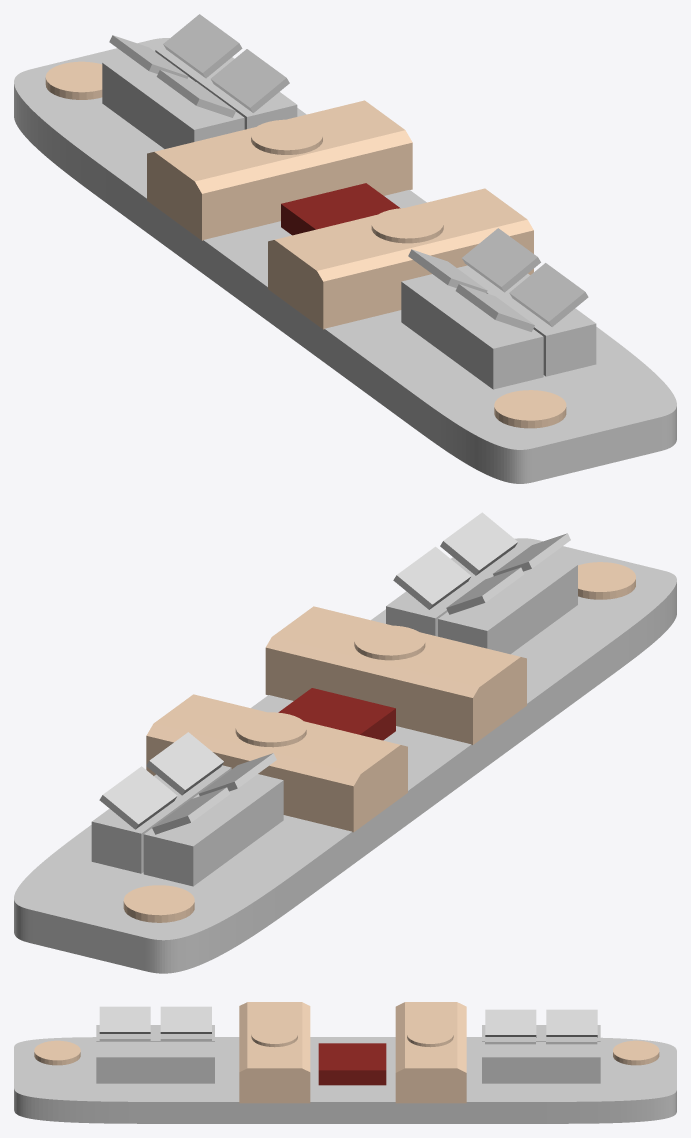
The model's file is SMParte de adentro1parte8.fbx.
3 views of the same model, one above another, from view 1: azimuth 30°, elevation 25°; view 2: azimuth 150°, elevation 25°; view 3: azimuth 270°, elevation 25° (orthographic). The views are drawn at different scales.
Parts seen in each view (by area): view 1: Cubo.015, Cubo.017, Cubo.018, Cubo.024, Cubo.026, Cubo.025, Cubo.022, Cubo.041, Cubo.043, Cubo.040, Cubo.042, Cilindro.023 (+8 smaller); view 2: Cubo.015, Cubo.018, Cubo.017, Cubo.026, Cubo.024, Cubo.027, Cubo.022, Cubo.043, Cubo.042, Cubo.041, Cubo.040, Cubo.025 (+8 smaller); view 3: Cubo.015, Cubo.018, Cubo.017, Cubo.025, Cubo.027, Cubo.022, Cubo.036, Cubo.037, Cubo.033, Cubo.032, Cilindro.023, Cilindro.022 (+8 smaller).
Part boxes in pixels (<box>): Cubo.015: <box>14,38,676,483</box>; Cubo.017: <box>147,100,412,240</box>; Cubo.018: <box>268,188,533,329</box>; Cubo.024: <box>401,274,543,389</box>; Cubo.026: <box>102,56,244,148</box>; Cubo.025: <box>457,265,596,376</box>; Cubo.022: <box>281,183,400,235</box>; Cubo.041: <box>509,263,588,326</box>; Cubo.043: <box>163,14,242,78</box>; Cubo.040: <box>462,228,540,292</box>; Cubo.042: <box>210,49,289,112</box>; Cilindro.023: <box>494,390,566,428</box>; Cubo.015: <box>14,538,676,973</box>; Cubo.018: <box>265,606,526,744</box>; Cubo.017: <box>146,694,407,832</box>; Cubo.026: <box>143,774,283,886</box>; Cubo.024: <box>438,557,577,654</box>; Cubo.027: <box>91,765,231,873</box>; Cubo.022: <box>278,688,395,740</box>; Cubo.043: <box>99,766,177,829</box>; Cubo.042: <box>146,732,223,795</box>; Cubo.041: <box>440,512,517,575</box>; Cubo.040: <box>393,546,471,609</box>; Cubo.025: <box>386,549,522,636</box>; Cubo.015: <box>14,1037,676,1123</box>; Cubo.018: <box>239,1002,310,1103</box>; Cubo.017: <box>395,1002,466,1103</box>; Cubo.025: <box>96,1041,214,1083</box>; Cubo.027: <box>482,1041,600,1083</box>; Cubo.022: <box>318,1043,386,1085</box>; Cubo.036: <box>546,1009,597,1037</box>; Cubo.037: <box>485,1009,536,1037</box>; Cubo.033: <box>99,1006,150,1033</box>; Cubo.032: <box>160,1006,211,1033</box>; Cilindro.023: <box>34,1040,80,1065</box>; Cilindro.022: <box>613,1040,659,1065</box>.
Bounding box in the file's own units: 32.55 × 16.69 × 138.
